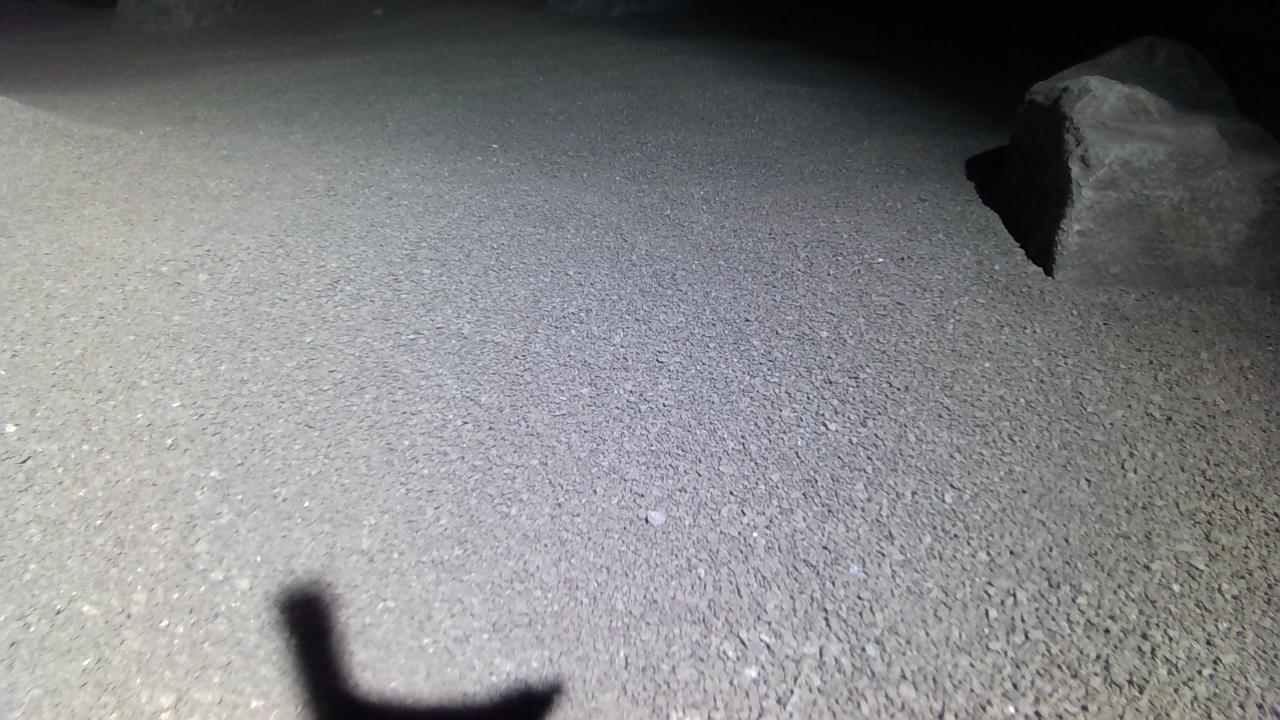rock: (1006, 35, 1280, 290), (112, 0, 233, 28), (545, 0, 694, 16)
